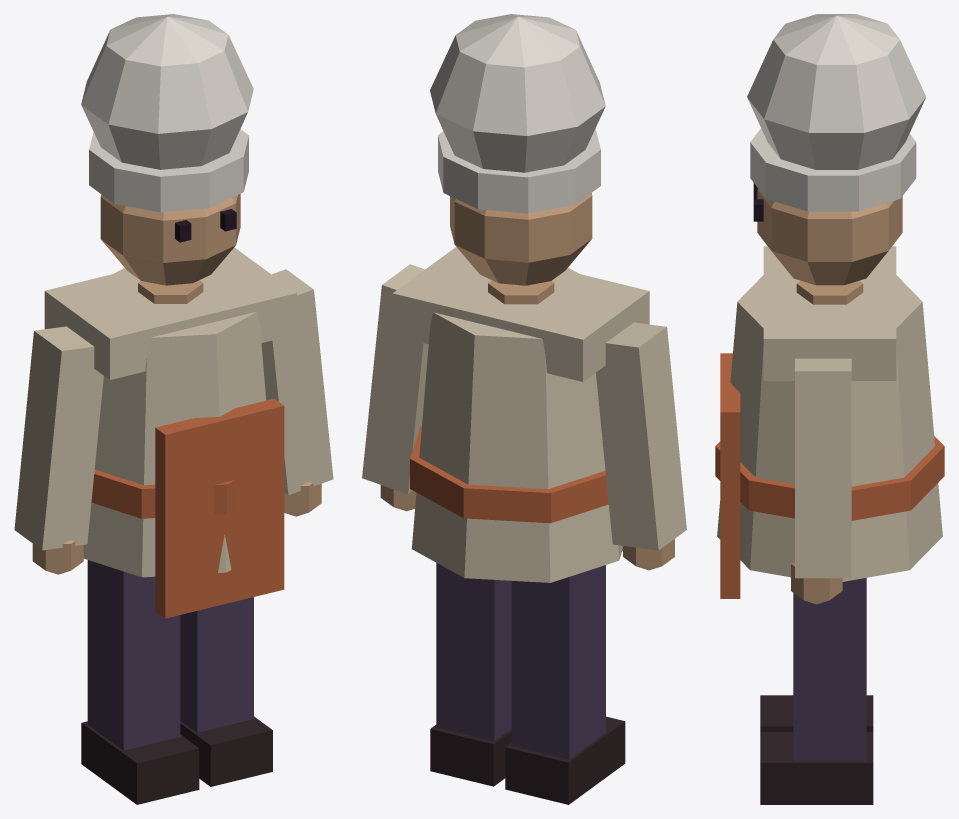
Rendered from person_ines.gltf.
3 views of the same model, side by side, from view 1: azimuth 30°, elevation 25°; view 2: azimuth 150°, elevation 25°; view 3: azimuth 270°, elevation 25° (orthographic).
Visible parts, largest first — view 1: body, face; view 2: body, face; view 3: body, face.
Part boxes in pixels (x1,y1,x2,y2): body: [14, 247, 333, 804]; face: [81, 14, 253, 285]; body: [362, 247, 686, 804]; face: [430, 14, 605, 285]; body: [715, 246, 944, 804]; face: [747, 14, 925, 285].
Size of the model in its own units: 1.03 by 2.51 by 0.69.
